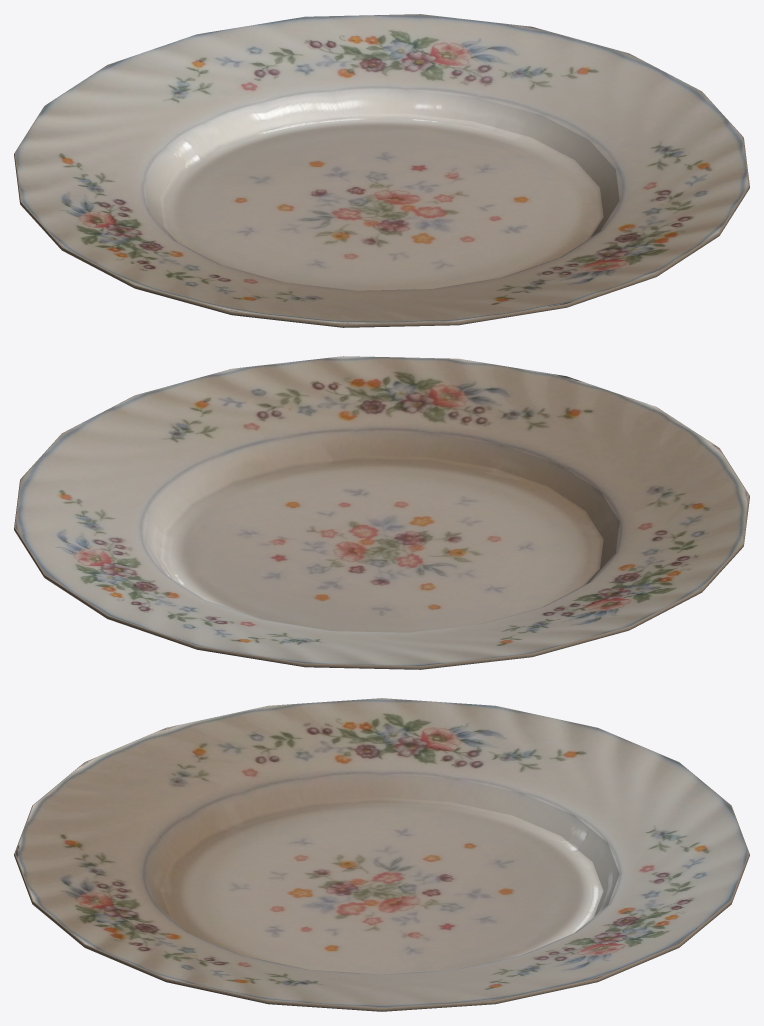
File: Dish.fbx
3 views of the same model, one above another, from view 1: azimuth 30°, elevation 25°; view 2: azimuth 150°, elevation 25°; view 3: azimuth 270°, elevation 25° (orthographic).
Visible parts, largest first — view 1: pCylinder1; view 2: pCylinder1; view 3: pCylinder1.
Boxes of the visible parts, left/top/right/bottom form: pCylinder1: left=14, top=14, right=749, bottom=327; pCylinder1: left=14, top=356, right=749, bottom=669; pCylinder1: left=14, top=698, right=749, bottom=1011.
Bounding box in the file's own units: 17.6 × 1.21 × 17.6.
1 material, 1 textured.
